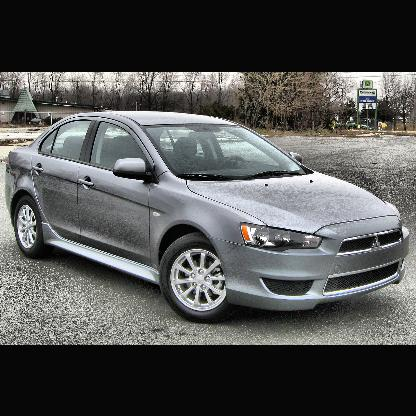Mitsubishi Lancer Sedan 2012: (8, 113, 413, 322)
